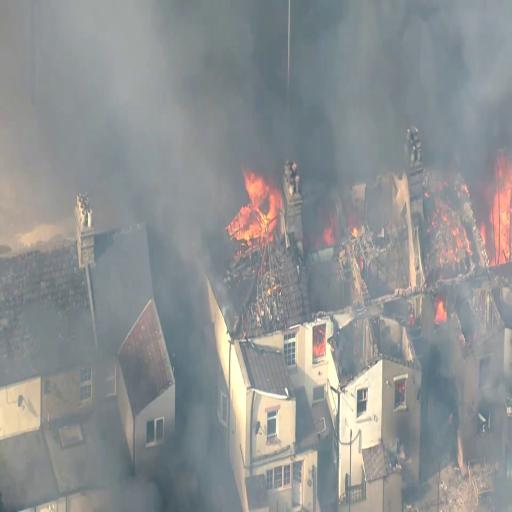fire: (230, 162, 286, 258), (480, 168, 512, 274)
smoke: (14, 7, 205, 153)
